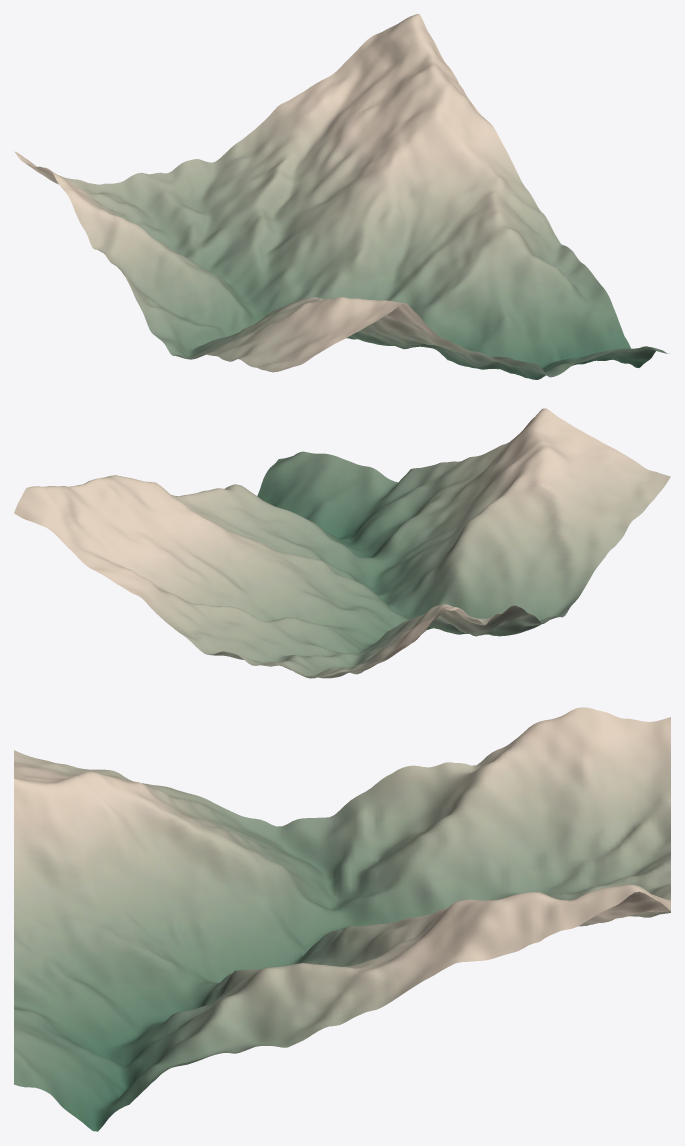
The model's file is matayan_cop30.glb.
3 renders of one model, top to bottom at view 1: azimuth 30°, elevation 25°; view 2: azimuth 150°, elevation 25°; view 3: azimuth 270°, elevation 25°, orthographic. The views are drawn at different scales.
Visible parts, largest first — view 1: Copernicus GLO-30 衛星 DSM 參考地形; view 2: Copernicus GLO-30 衛星 DSM 參考地形; view 3: Copernicus GLO-30 衛星 DSM 參考地形.
Boxes of the visible parts, x1=… form: Copernicus GLO-30 衛星 DSM 參考地形: x1=14, y1=14, x2=669, y2=379; Copernicus GLO-30 衛星 DSM 參考地形: x1=14, y1=408, x2=670, y2=678; Copernicus GLO-30 衛星 DSM 參考地形: x1=14, y1=707, x2=670, y2=1131.
Bounding box in the file's own units: 3210 × 1519 × 3750.
Materials: 1 (1 with a texture image).
